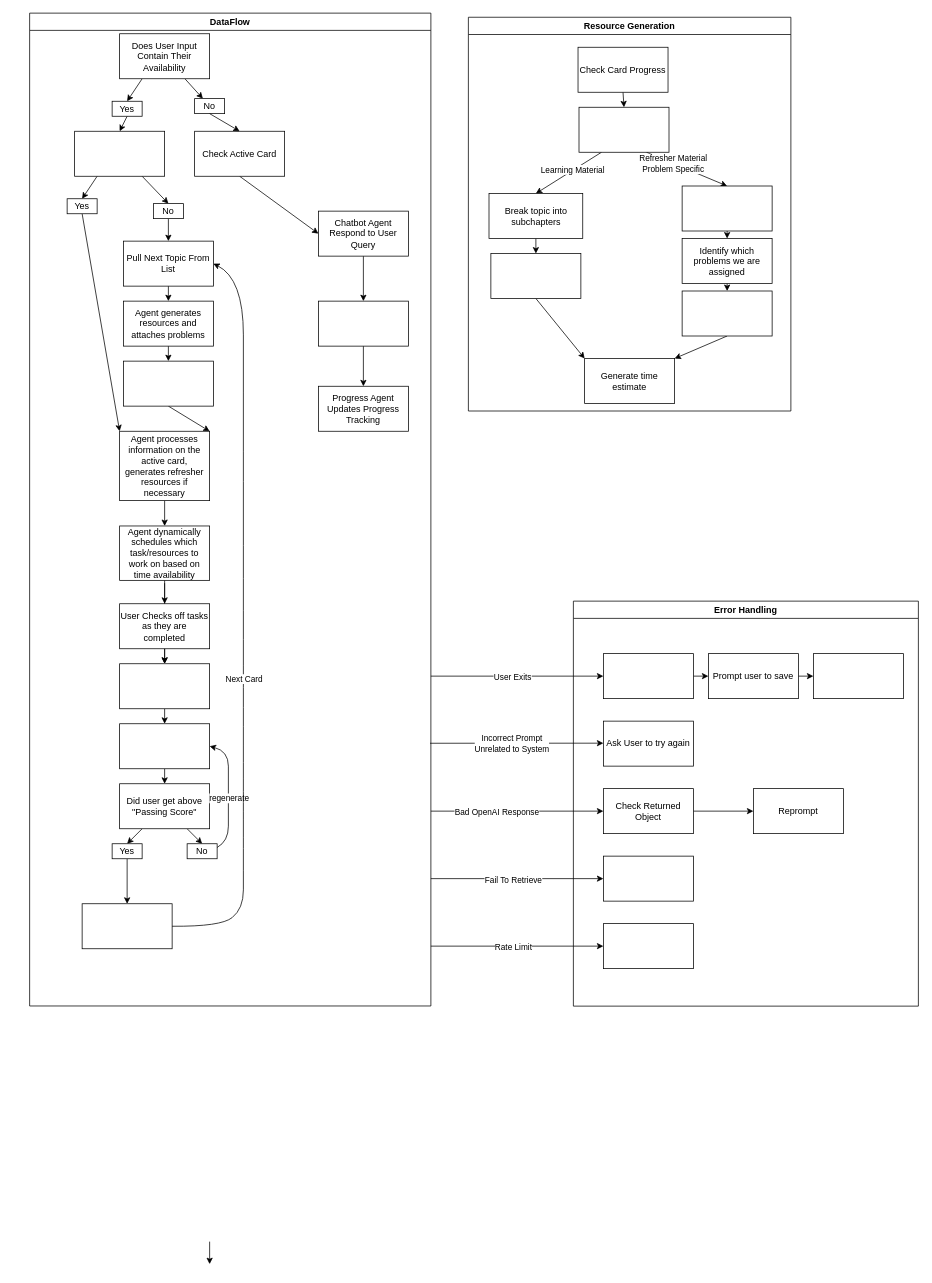
Some shapes in this 932 by 1283 pixel diagram are drawn without their labels. Here are the shapes that lost their labels. From the top down, the centre of each, then its label:
the point at 623,129: What type of resource are we generating?
the point at 119,153: Does An Active Card Exist
the point at 726,208: Check task card progress
the point at 535,275: Call to find websites to cover all subchapters
the point at 363,323: Resource Agent Generates Resources
the point at 726,313: Find problem-specific resources (NO ANSWER GUIDES)
the point at 168,383: Card is output to user and set as the active card
the point at 164,686: update Session object for state tracking
the point at 648,676: Save State of card from session object
the point at 858,676: Save+Exit or Exit
the point at 164,746: When all task are completed, generate knowledge check
the point at 648,878: Check DB Connection -> Check Data integrity
the point at 126,926: Mark Topic As Complete
the point at 648,946: Wait and Repeat
